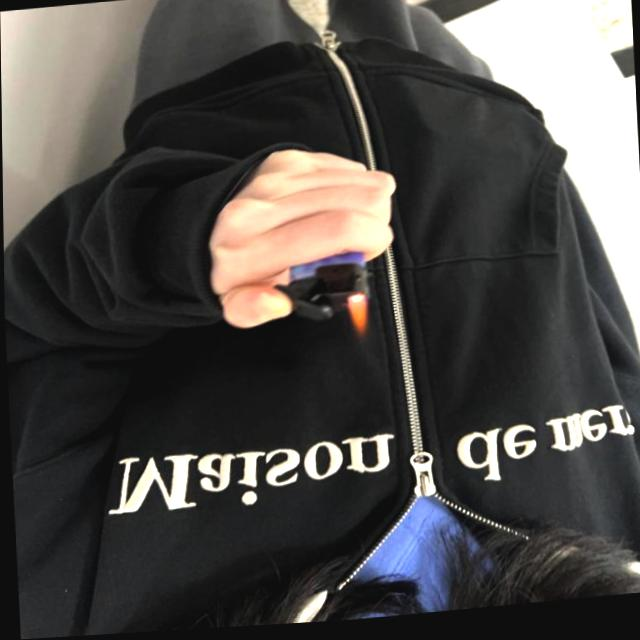Fire: (346, 301, 367, 341)
